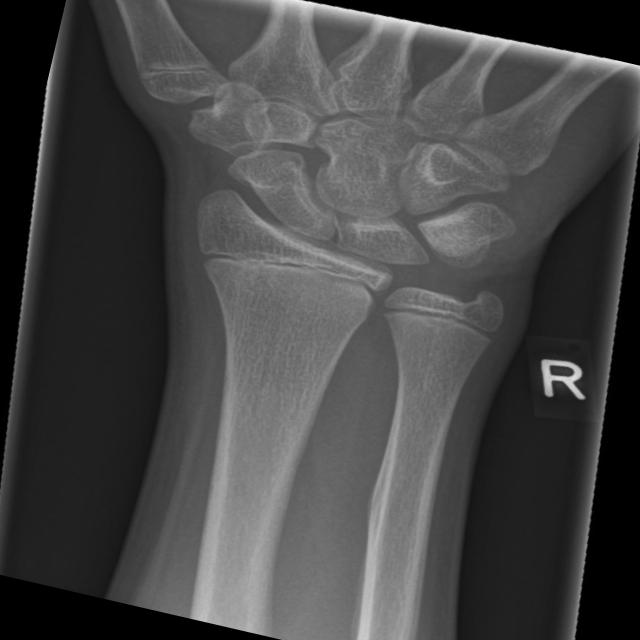fracture: (179, 222, 398, 318), (362, 279, 522, 361)
